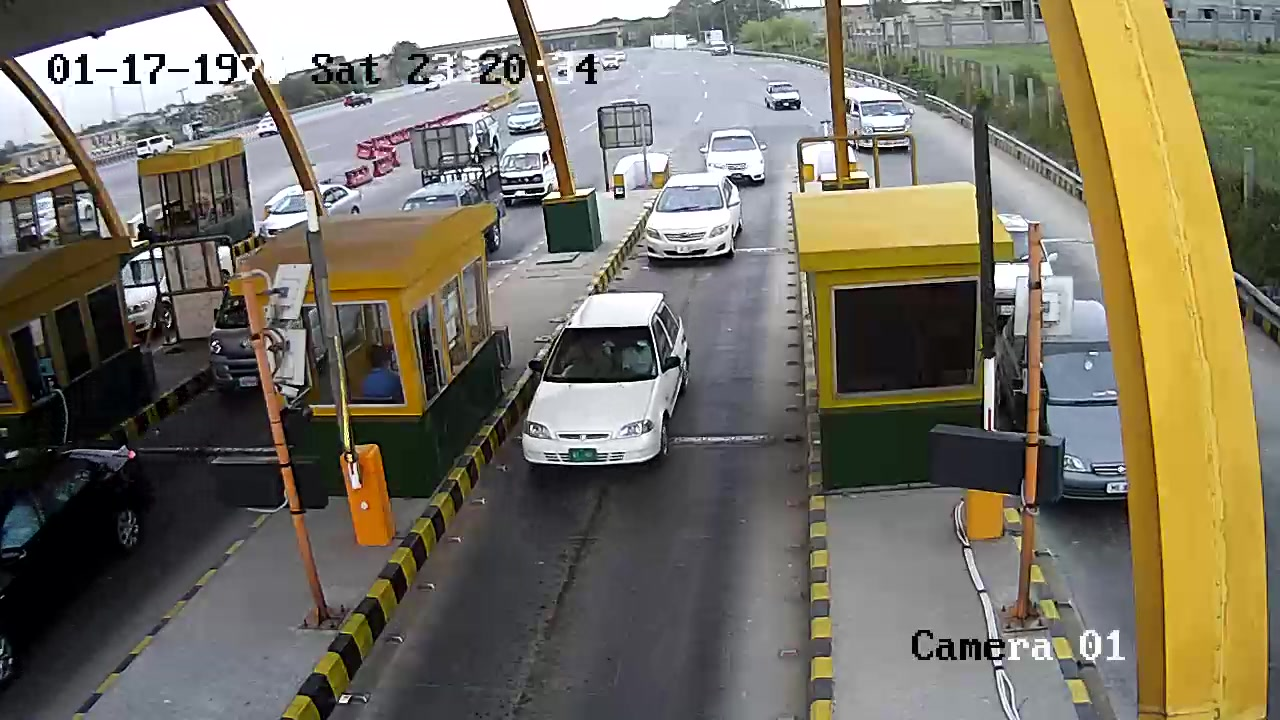F1: (515, 288, 699, 505)
